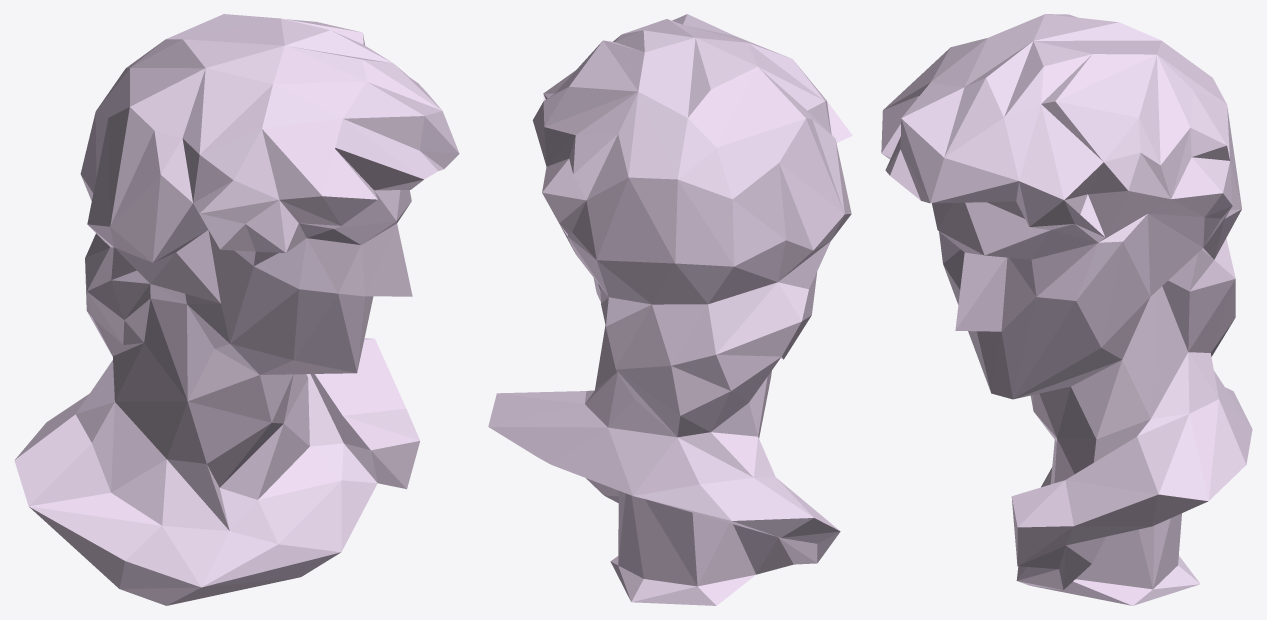
File: davishead.gltf
3 renders of one model, left to right at view 1: azimuth 30°, elevation 25°; view 2: azimuth 150°, elevation 25°; view 3: azimuth 270°, elevation 25°, orthographic. The views are drawn at different scales.
Visible parts, largest first — view 1: Head_of_Michelangelo_s_David; view 2: Head_of_Michelangelo_s_David; view 3: Head_of_Michelangelo_s_David.
Boxes of the visible parts, bbox=[...] form: Head_of_Michelangelo_s_David: bbox=[14, 14, 459, 605]; Head_of_Michelangelo_s_David: bbox=[488, 14, 852, 605]; Head_of_Michelangelo_s_David: bbox=[881, 14, 1252, 605].
Bounding box in the file's own units: 9.21 × 13.39 × 8.19.
